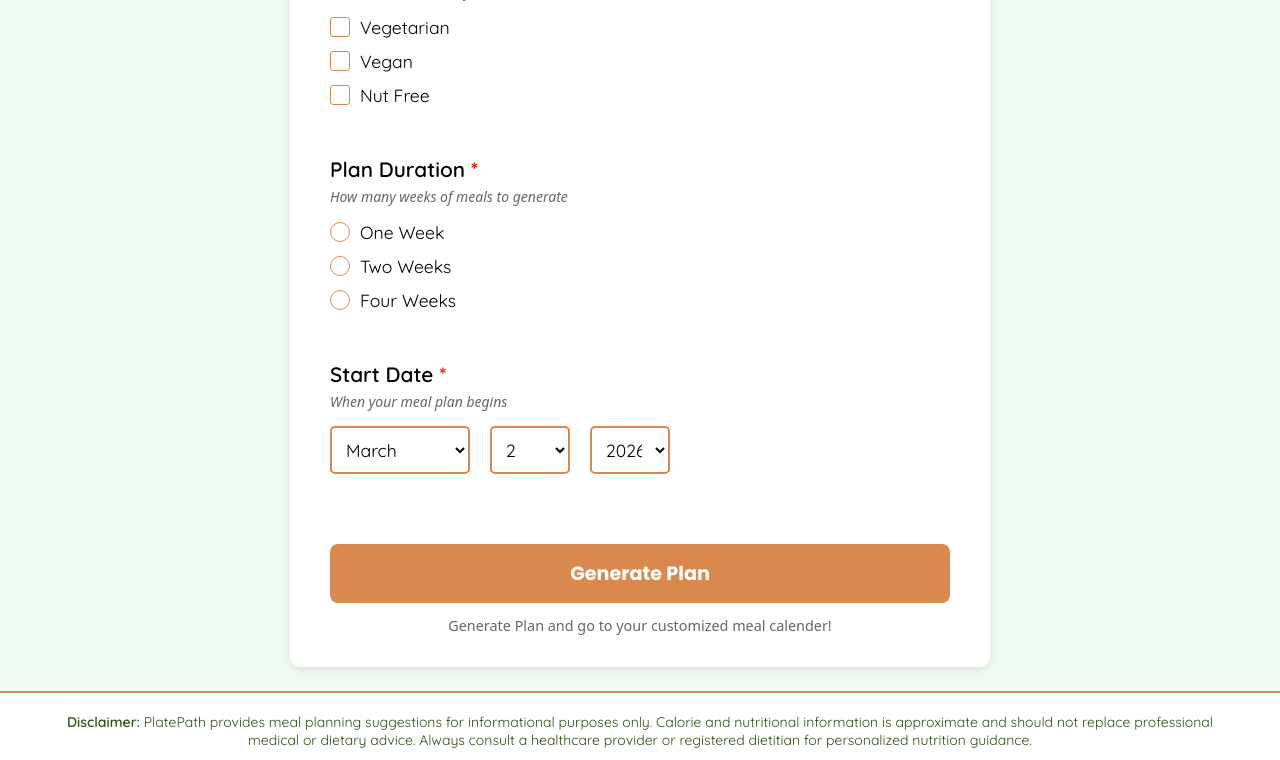
Test case: GeneratePlan - Accessibility Tests › Error Messages › should show individual field errors when form is submitted empty
(page scrolled)
Click the button with aria-label "generate meal plan" at (640, 574), box x1=330 y1=544 x2=950 y2=603
(page scrolled)
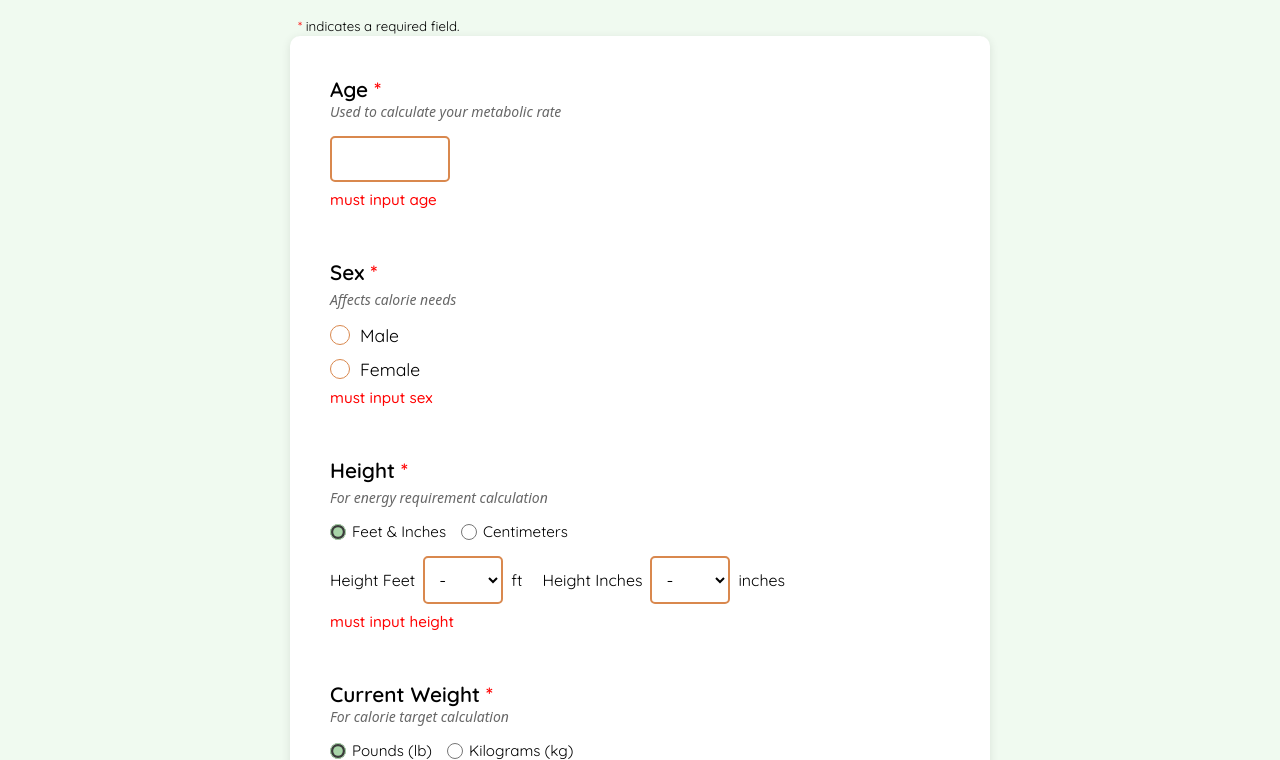
Expected: the text "must input sex" is shown, x1=330 y1=388 x2=433 y2=407
